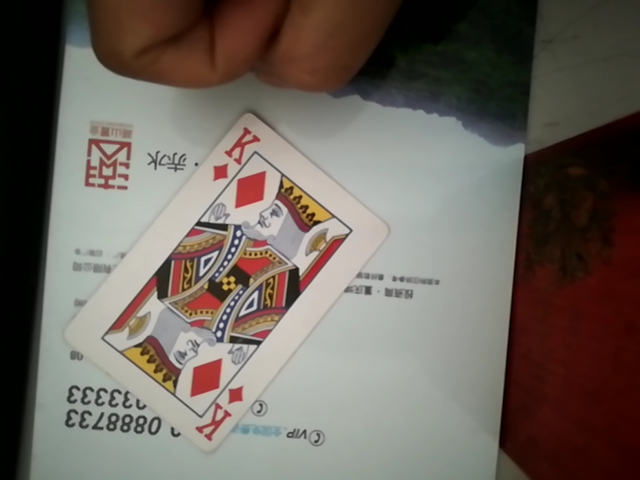fk k: (63, 98, 390, 445)
